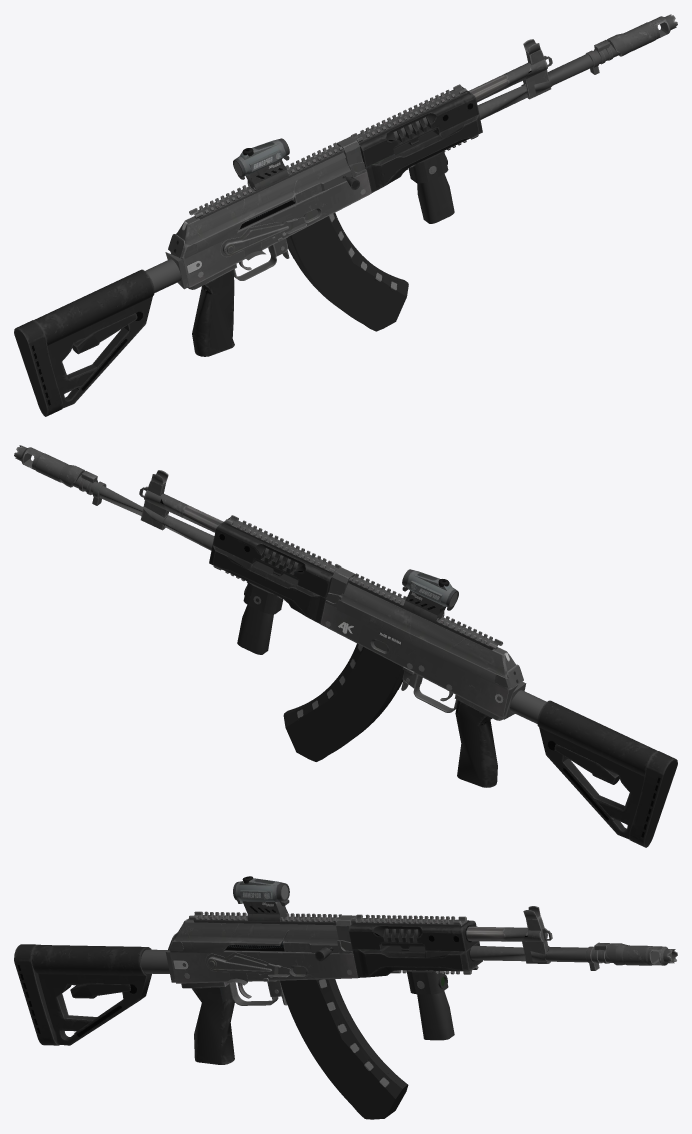
3 renders of one model, top to bottom at view 1: azimuth 30°, elevation 25°; view 2: azimuth 150°, elevation 25°; view 3: azimuth 330°, elevation 25°, orthographic.
Visible parts, largest first — view 1: Object_3, Object_4; view 2: Object_3, Object_4; view 3: Object_3, Object_4.
Boxes of the visible parts, x1,y1,x2,y2 form: Object_3: (14,14,677,416); Object_4: (16,17,670,416); Object_3: (14,445,677,847); Object_4: (21,447,675,847); Object_3: (31,878,677,1118); Object_4: (14,876,675,1119).
Size of the model in its own units: 1.05 by 0.3919 by 0.0728.
Materials: 2 (2 with a texture image).
